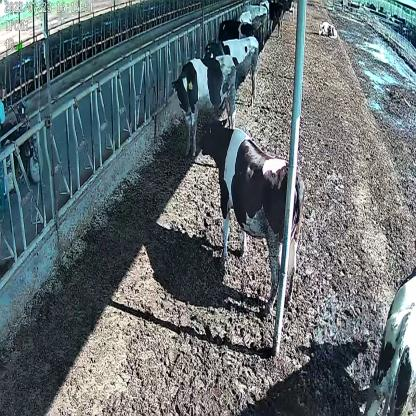cow: (200, 115, 305, 312), (172, 53, 237, 157), (201, 35, 258, 109), (317, 22, 338, 40)
